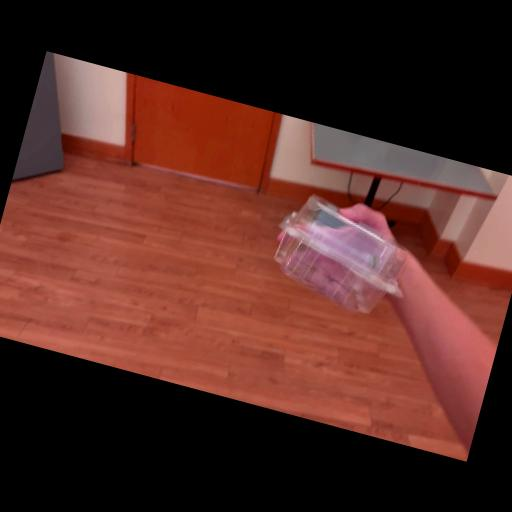small_plastic_container: (246, 180, 428, 344)
